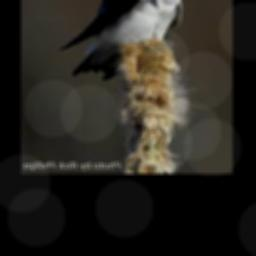Swallow: (60, 0, 191, 79)
